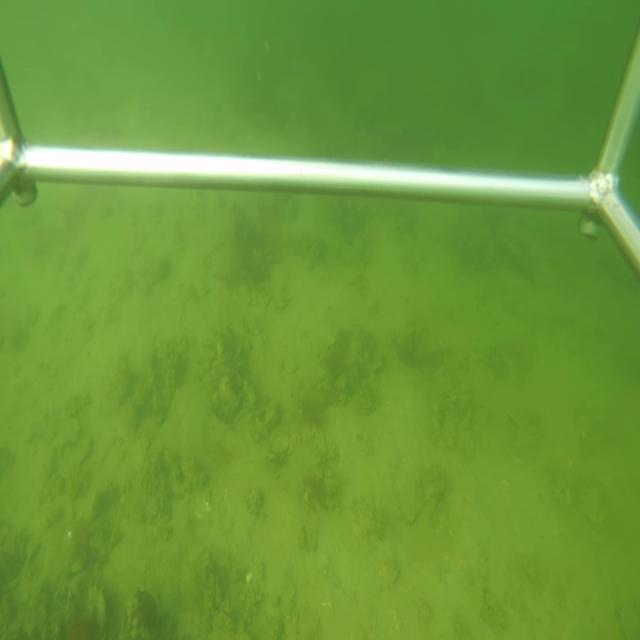Oyster-Indeterminate: (269, 433, 290, 458)
